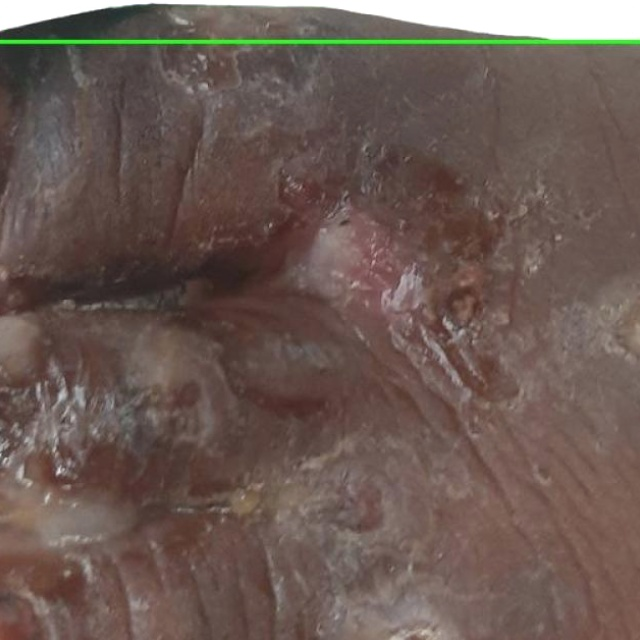Eczema: (0, 0, 639, 41)
